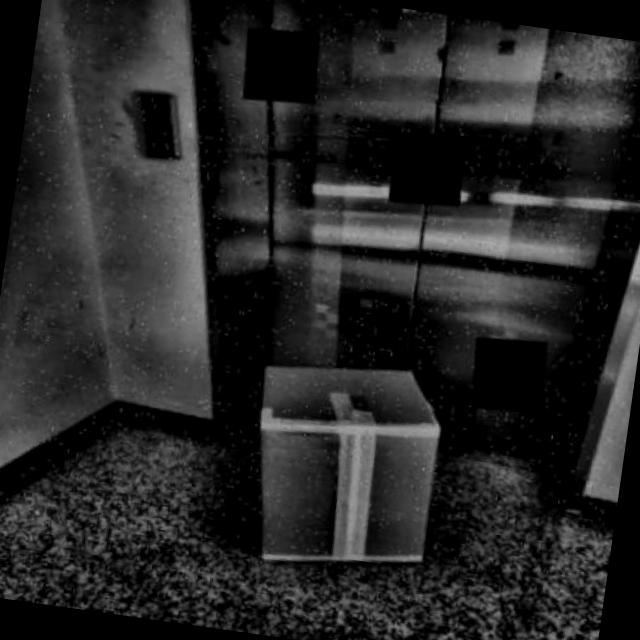box: (226, 338, 470, 600)
